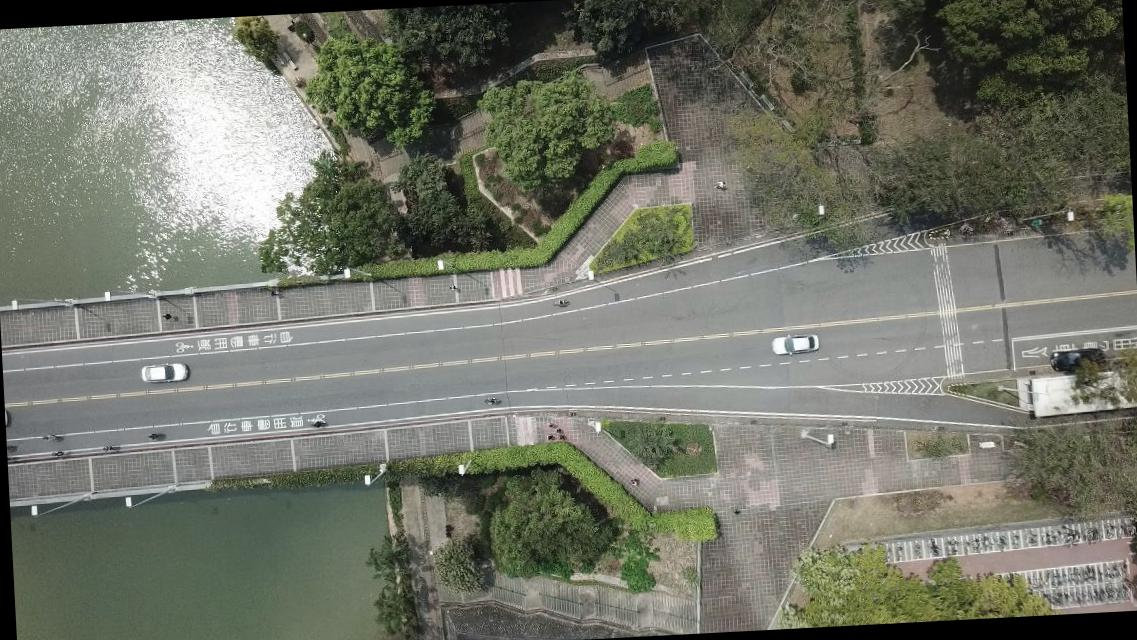vehicle: (1050, 346, 1106, 373), (771, 332, 820, 356), (140, 361, 190, 383)
